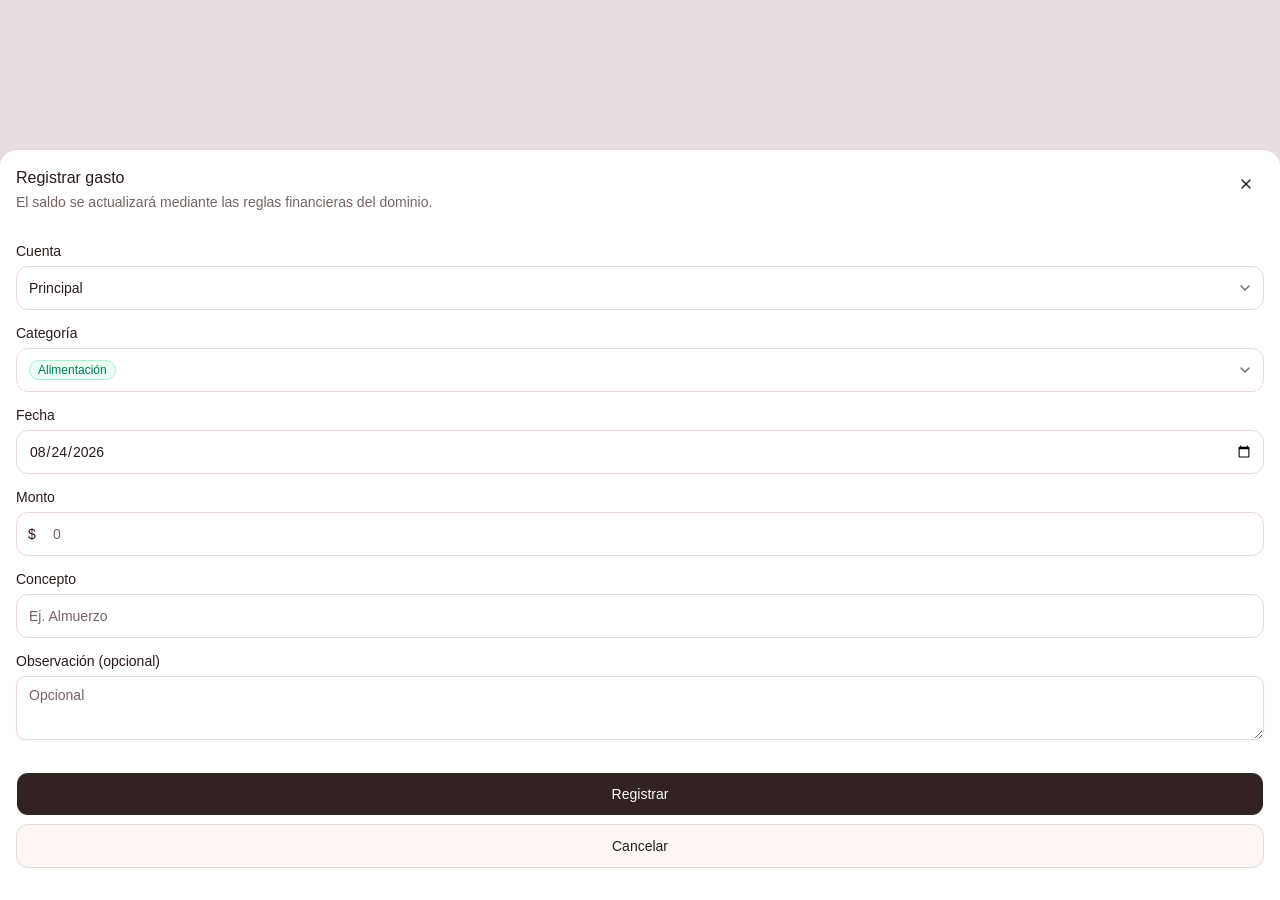
Test case: MovementForm category behavior › offers only active categories for a new variable expense
The width and height of the screenshot is (1280, 900).
Click the dropdown named "Categoría". click: [72, 370]
box: [16,348,1264,392]
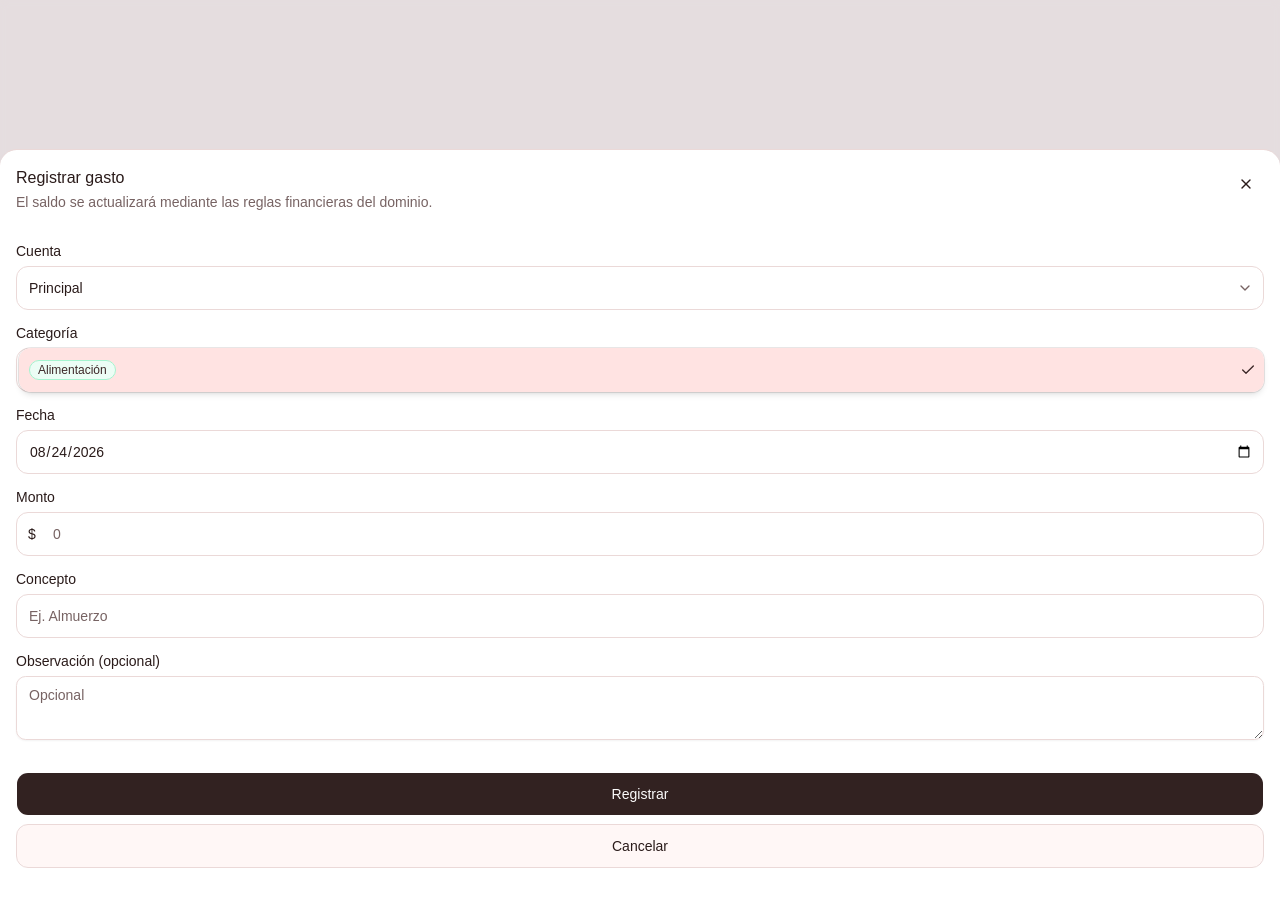
Expected: the option "Alimentación" is shown, [19,348,1264,392]
